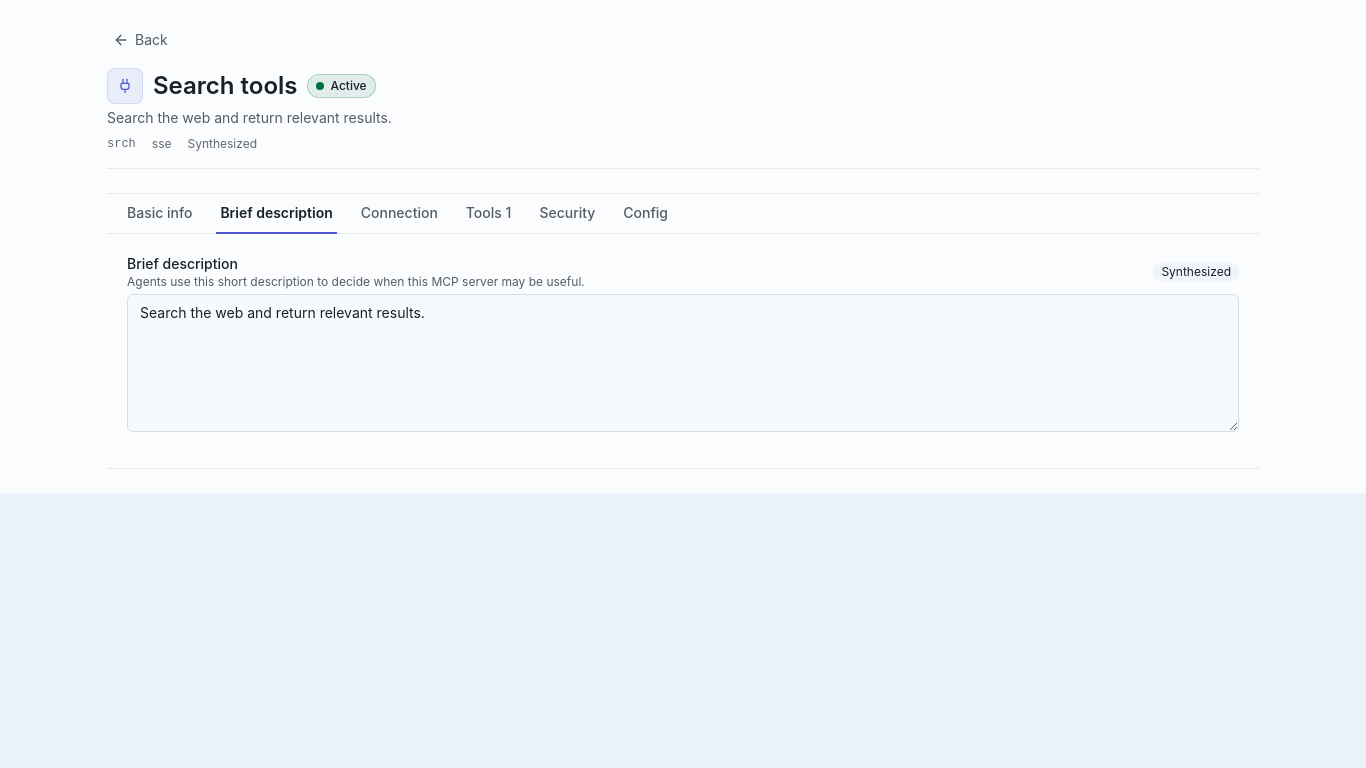
<McpServerDetailPage> › renders name, transport/endpoint, probed tool, and a Back link
The width and height of the screenshot is (1366, 768).
Expected: the heading "Search tools" is shown, [153, 70, 298, 102]
Expected: the text "sse" is shown, [152, 136, 172, 152]
Click the tab "Basic info".
click(160, 214)  # box [123, 194, 196, 234]
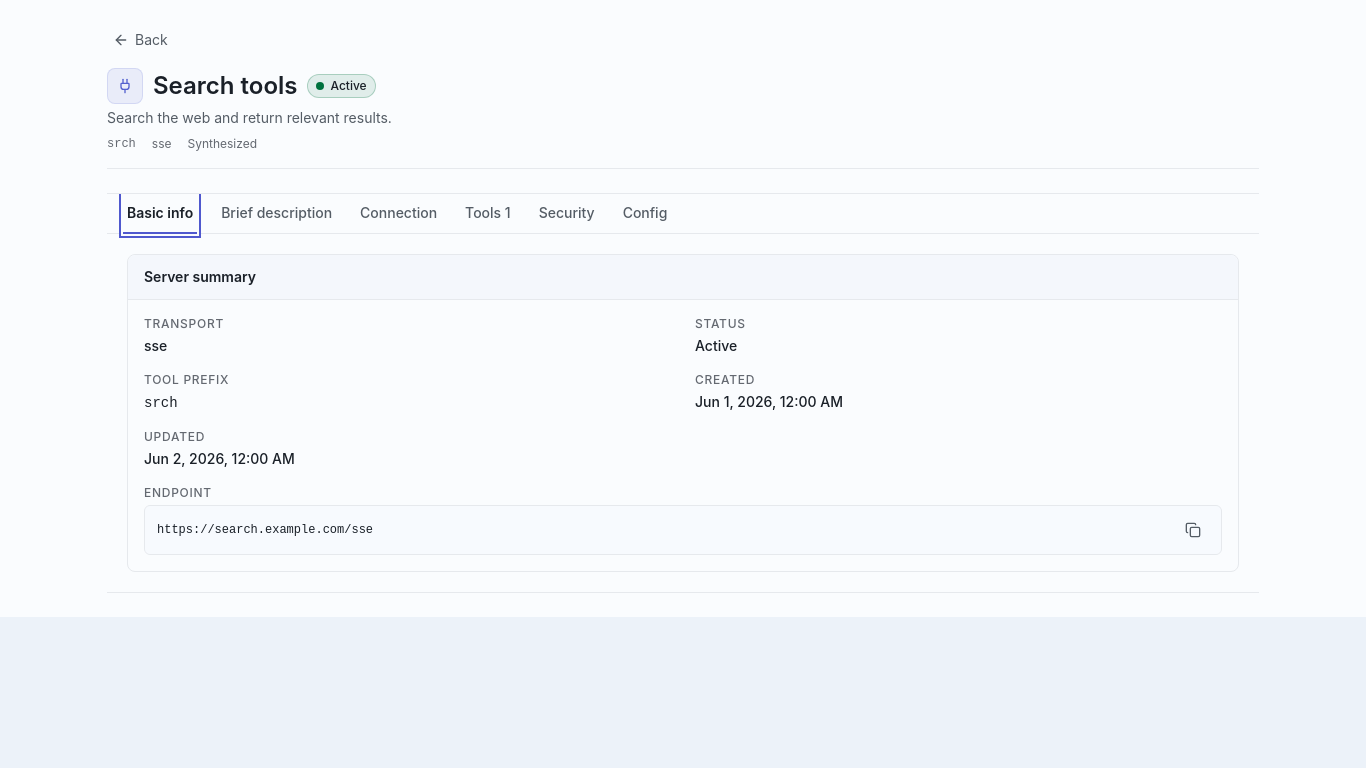
Expected: the text "https://search.example.com/sse" is shown, [157, 523, 373, 537]
// The probed tool name renders.
Click the tab "Tools 1".
click(488, 214)  # box [461, 194, 515, 234]
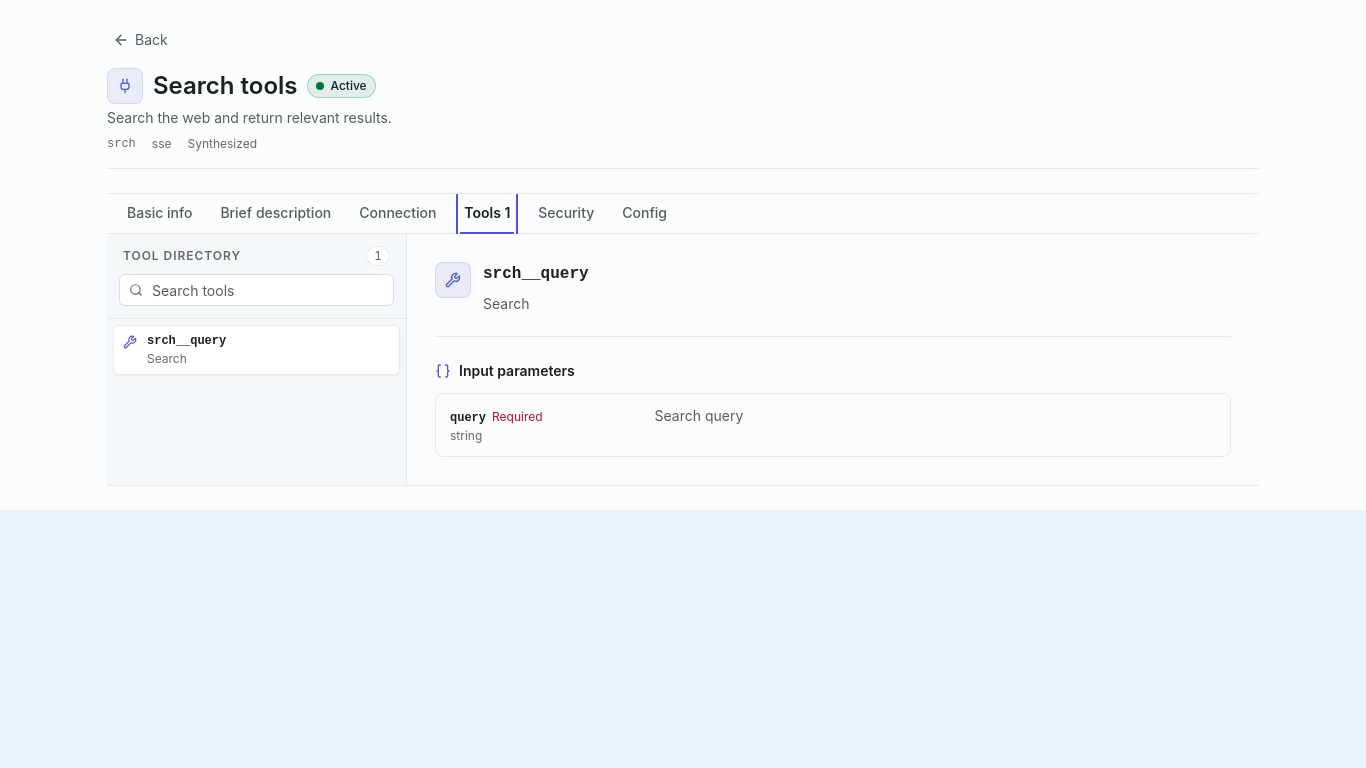
Expected: the link "Back" is shown, [113, 31, 168, 48]
Expected: the text "srch__query" is shown 2 times, [147, 333, 226, 349]; [483, 265, 589, 283]
Expected: the text "Search query" is shown, [654, 407, 743, 424]
